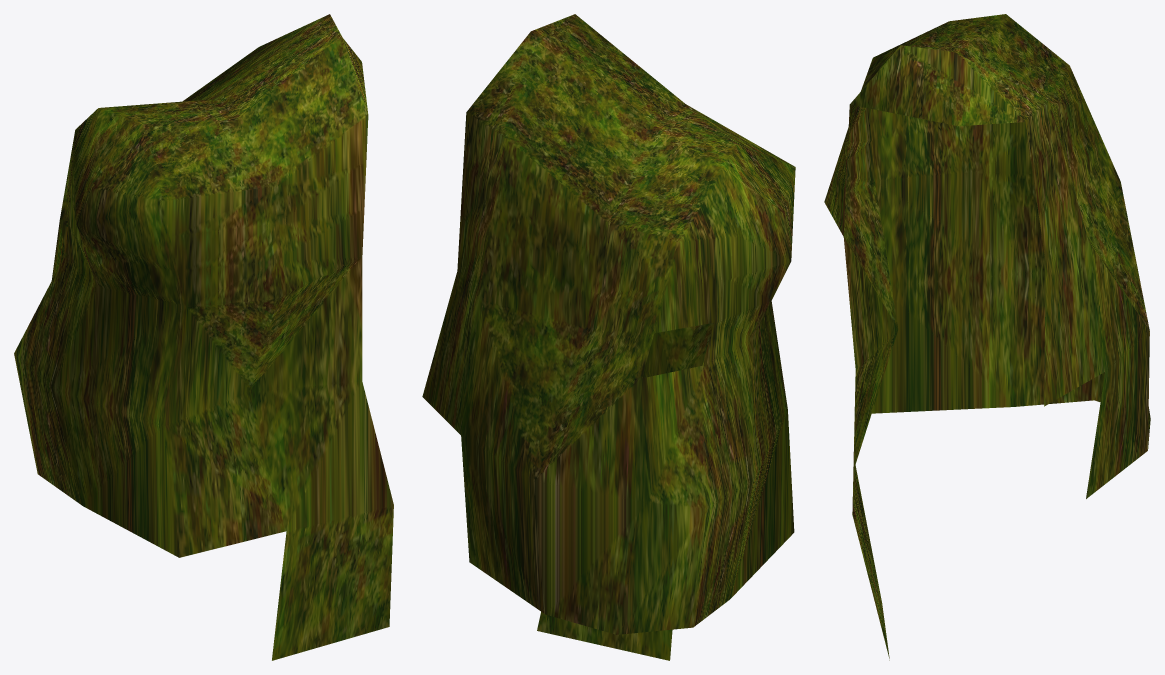
The model's file is TROLLHOLE02_RM_PSURF93.fbx.
3 views of the same model, side by side, from view 1: azimuth 30°, elevation 25°; view 2: azimuth 150°, elevation 25°; view 3: azimuth 270°, elevation 25° (orthographic). The views are drawn at different scales.
Parts seen in each view (by area): view 1: TROLLHOLE02_RM_PSURF93; view 2: TROLLHOLE02_RM_PSURF93; view 3: TROLLHOLE02_RM_PSURF93.
Boxes of the visible parts, <box> form: TROLLHOLE02_RM_PSURF93: <box>14,14,393,660</box>; TROLLHOLE02_RM_PSURF93: <box>422,14,795,660</box>; TROLLHOLE02_RM_PSURF93: <box>824,14,1150,660</box>.
Bounding box in the file's own units: 48334 × 89793 × 44486.
Materials: 1 (1 with a texture image).
